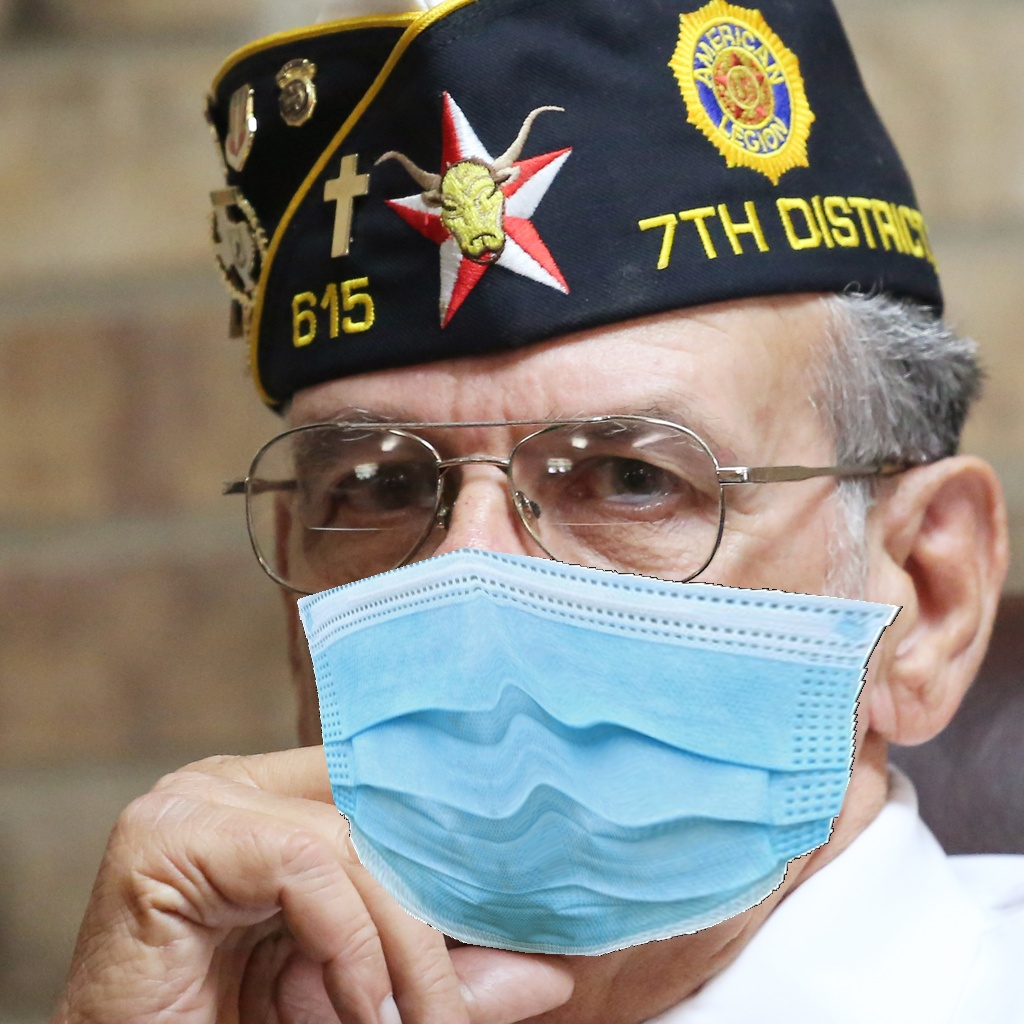Mask: (293, 390, 888, 961)
